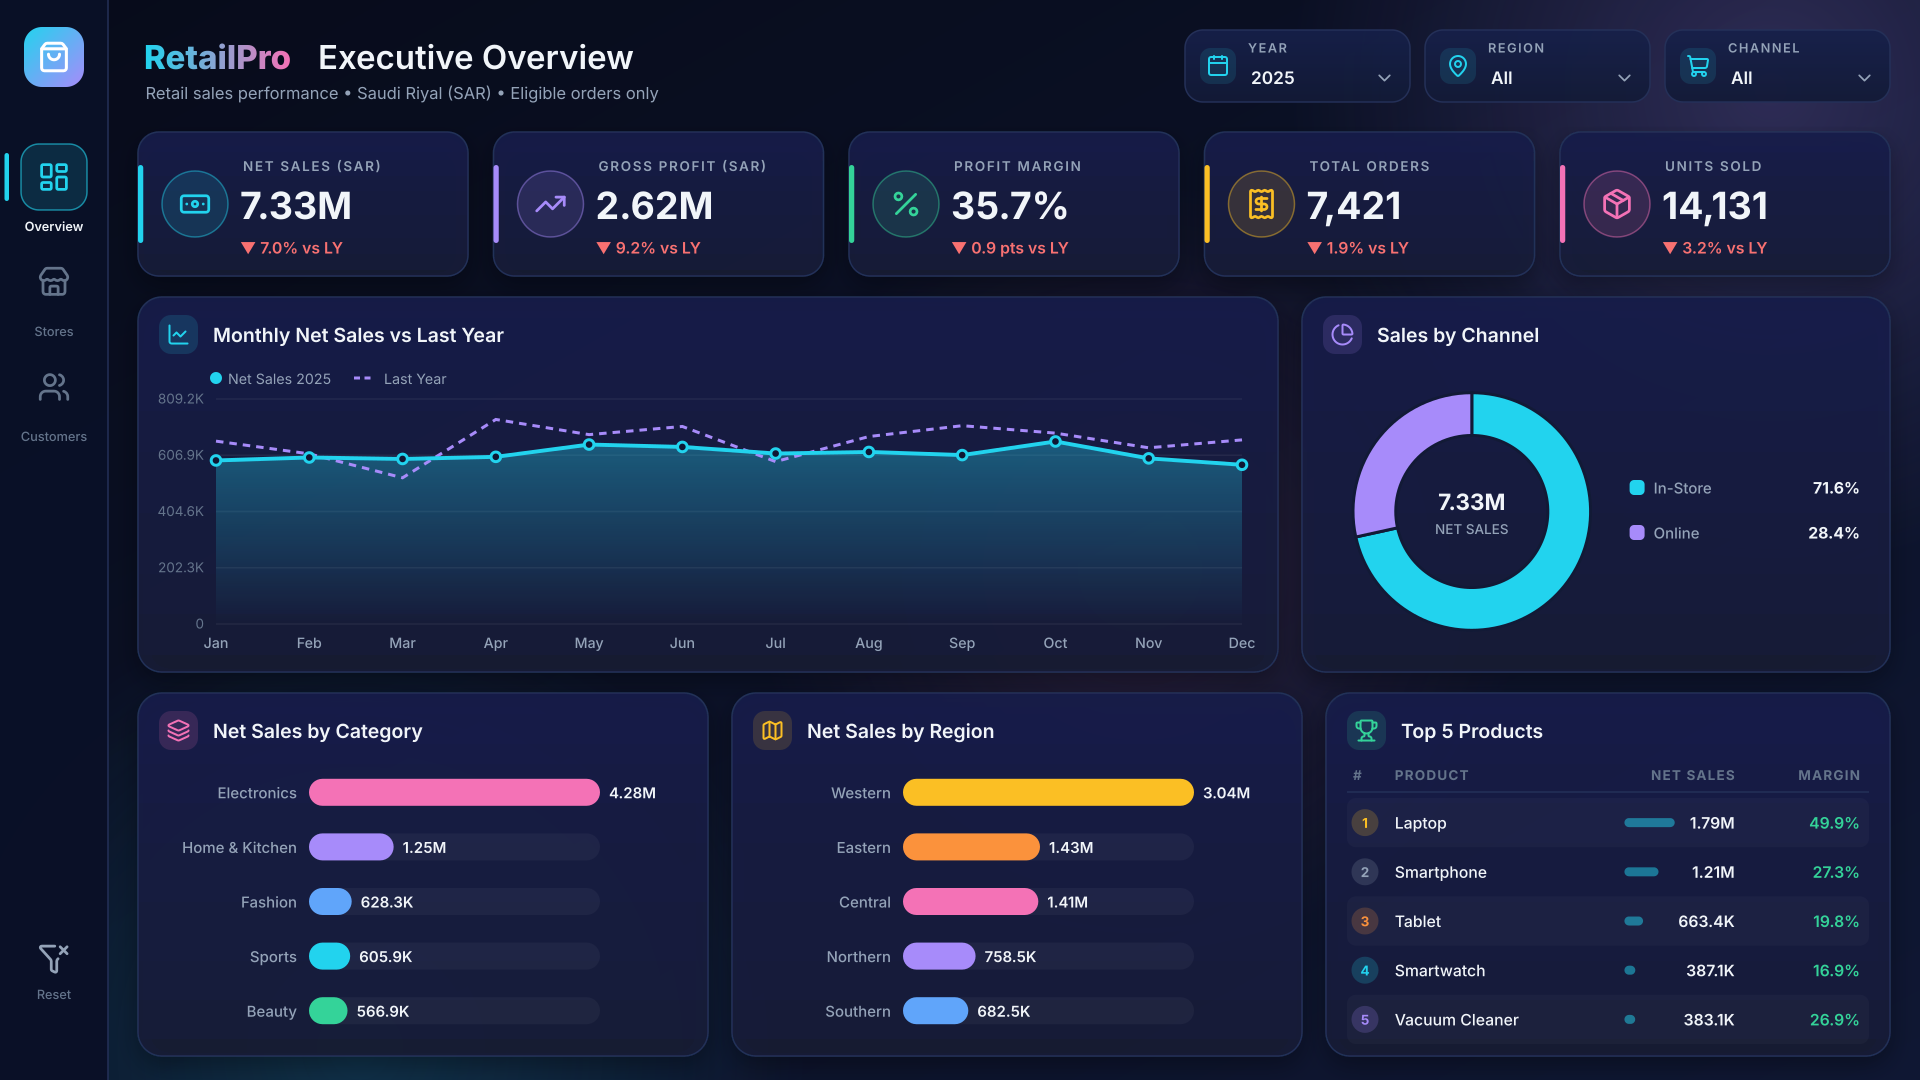

This screenshot's page, from the dashboard's own definition file:
{"tool":"powerbi","page":{"name":"Overview","canvas":[1280,720],"ordinal":0},"visuals":[{"type":"slicer","fields":{"Values":["Calendar5.Year"]},"box":[828,38,106,28],"z":1000},{"type":"slicer","fields":{"Values":["Stores3.Region"]},"box":[988,38,106,28],"z":1001},{"type":"slicer","fields":{"Values":["SalesModel.SalesChannel"]},"box":[1148,38,106,28],"z":1002},{"type":"card","fields":{"Values":["_Measures.Net Sales"]},"box":[158,100,148,58],"z":1003},{"type":"card","fields":{"Values":["_Measures.Net Sales YoY Label"]},"box":[158.6,128.6,147.1,55.7],"z":1004},{"type":"card","fields":{"Values":["_Measures.Gross Profit"]},"box":[395,100,148,58],"z":1005},{"type":"card","fields":{"Values":["_Measures.Gross Profit YoY Label"]},"box":[395.7,128.6,147.1,55.7],"z":1006},{"type":"card","fields":{"Values":["_Measures.Profit Margin %"]},"box":[632,100,148,58],"z":1007},{"type":"card","fields":{"Values":["_Measures.Margin YoY Label"]},"box":[631.4,128.6,148.6,55.7],"z":1008},{"type":"card","fields":{"Values":["_Measures.Total Orders"]},"box":[869,100,148,58],"z":1009},{"type":"card","fields":{"Values":["_Measures.Orders YoY Label"]},"box":[868.6,128.6,148.6,55.7],"z":1010},{"type":"card","fields":{"Values":["_Measures.Units Sold"]},"box":[1106,100,148,58],"z":1011},{"type":"card","fields":{"Values":["_Measures.Units YoY Label"]},"box":[1105.7,128.6,148.6,55.7],"z":1012},{"type":"lineChart","fields":{"Category":["Calendar5.Month Short"],"Y":["_Measures.Net Sales","_Measures.Net Sales LY"]},"box":[100,242,744,198],"z":1013},{"type":"donutChart","fields":{"Category":["SalesModel.SalesChannel"],"Y":["_Measures.Net Sales"]},"box":[876,242,376,198],"z":1014},{"type":"barChart","fields":{"Category":["Products2.Category"],"Series":["Products2.Category"],"Y":["_Measures.Net Sales"]},"box":[100,506,364,190],"z":1015},{"type":"barChart","fields":{"Category":["Stores3.Region"],"Series":["Stores3.Region"],"Y":["_Measures.Net Sales"]},"box":[496,506,364,190],"z":1016},{"type":"tableEx","fields":{"Values":["Products2.ProductName","_Measures.Net Sales","_Measures.Profit Margin %"]},"box":[892,506,360,190],"z":1017},{"type":"actionButton","box":[10,94,52,64],"z":5000},{"type":"actionButton","box":[10,164,52,64],"z":5001},{"type":"actionButton","box":[10,234,52,64],"z":5002},{"type":"actionButton","box":[10,620,52,56],"z":5010}]}

Visuals, with their boxes on the page's 1280x720 design canvas (x1, y1, x2, y2). These are canvas units, not pixel positions in the 1920x1080 screenshot, which may show the page scaled, cropped or inside an application window:
slicer - Calendar5.Year: box(828, 38, 934, 66)
slicer - Stores3.Region: box(988, 38, 1094, 66)
slicer - SalesModel.SalesChannel: box(1148, 38, 1254, 66)
card - _Measures.Net Sales: box(158, 100, 306, 158)
card - _Measures.Net Sales YoY Label: box(159, 129, 306, 184)
card - _Measures.Gross Profit: box(395, 100, 543, 158)
card - _Measures.Gross Profit YoY Label: box(396, 129, 543, 184)
card - _Measures.Profit Margin %: box(632, 100, 780, 158)
card - _Measures.Margin YoY Label: box(631, 129, 780, 184)
card - _Measures.Total Orders: box(869, 100, 1017, 158)
card - _Measures.Orders YoY Label: box(869, 129, 1017, 184)
card - _Measures.Units Sold: box(1106, 100, 1254, 158)
card - _Measures.Units YoY Label: box(1106, 129, 1254, 184)
lineChart - Calendar5.Month Short x _Measures.Net Sales: box(100, 242, 844, 440)
donutChart - SalesModel.SalesChannel x _Measures.Net Sales: box(876, 242, 1252, 440)
barChart - Products2.Category x Products2.Category: box(100, 506, 464, 696)
barChart - Stores3.Region x Stores3.Region: box(496, 506, 860, 696)
tableEx - Products2.ProductName x _Measures.Net Sales: box(892, 506, 1252, 696)
actionButton: box(10, 94, 62, 158)
actionButton: box(10, 164, 62, 228)
actionButton: box(10, 234, 62, 298)
actionButton: box(10, 620, 62, 676)
